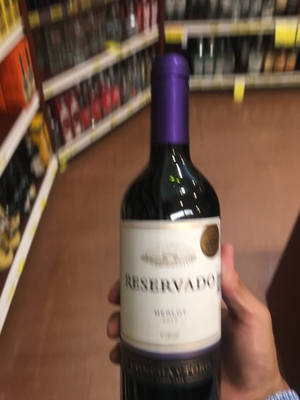reservado merlot: (120, 65, 223, 400)
